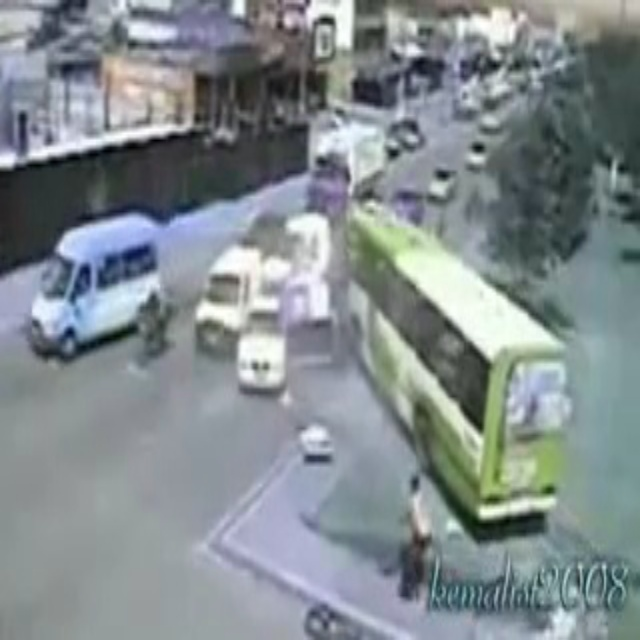acc: (280, 204, 431, 381)
